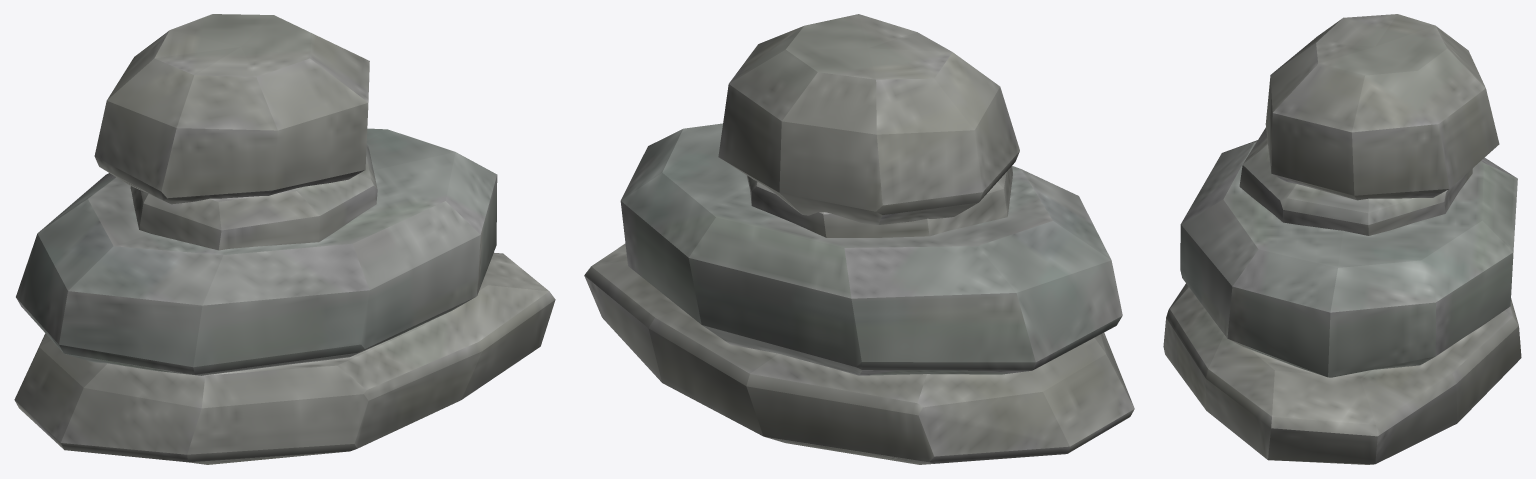
File: sc_rock_3.glb
3 views of the same model, side by side, from view 1: azimuth 30°, elevation 25°; view 2: azimuth 150°, elevation 25°; view 3: azimuth 270°, elevation 25° (orthographic). The views are drawn at different scales.
Parts seen in each view (by area): view 1: 10 · Stepped cairn; view 2: 10 · Stepped cairn; view 3: 10 · Stepped cairn.
Boxes of the visible parts, box(x1,y1,x2,y2) form: 10 · Stepped cairn: box(14, 14, 555, 464); 10 · Stepped cairn: box(584, 14, 1134, 464); 10 · Stepped cairn: box(1163, 14, 1521, 464).
Bounding box in the file's own units: 2.83 × 1.92 × 1.91.
1 material, 1 textured.
